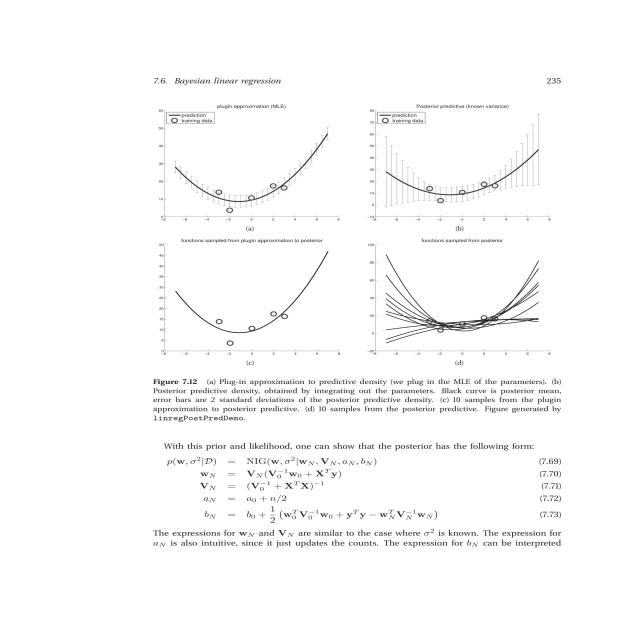diagram: (116, 62, 580, 423)
